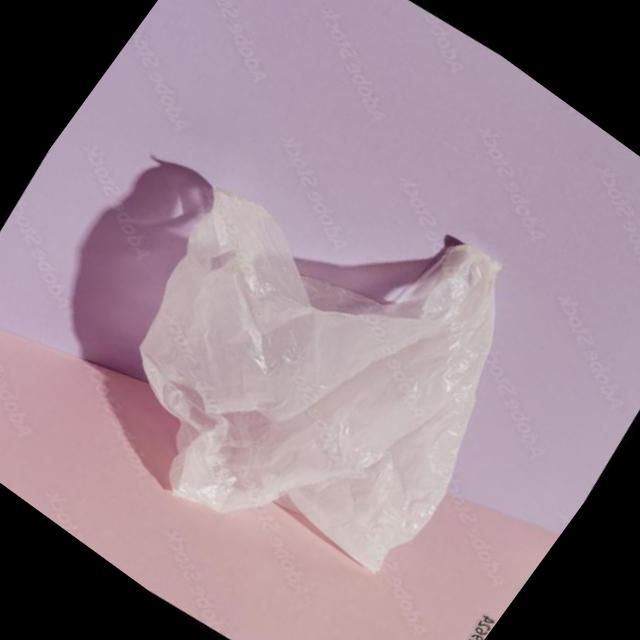KantongPlastik: (0, 53, 580, 626)
